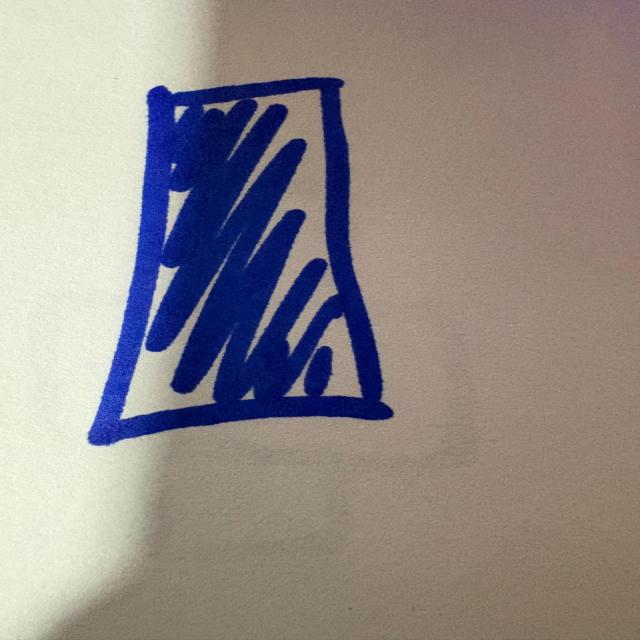Rectangle: (72, 71, 411, 447)
